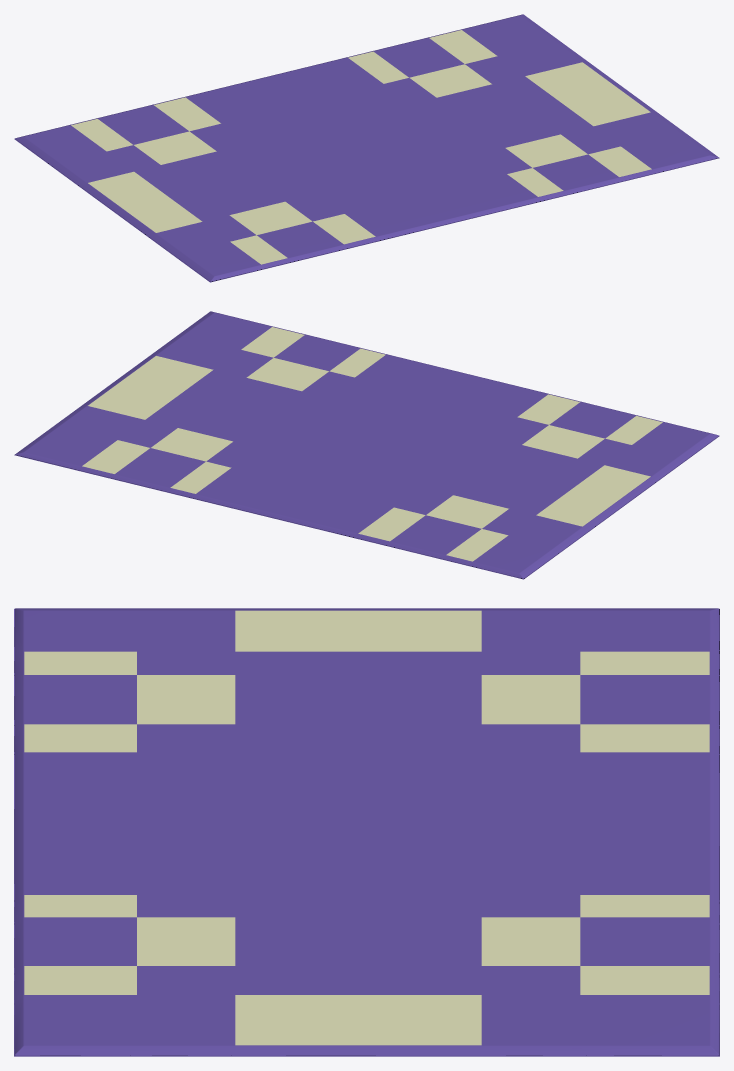
The model's file is ALFOMBRA.fbx.
3 views of the same model, one above another, from view 1: azimuth 30°, elevation 25°; view 2: azimuth 150°, elevation 25°; view 3: azimuth 270°, elevation 25° (orthographic). The views are drawn at different scales.
Visible parts, largest first — view 1: alfombra1; view 2: alfombra1; view 3: alfombra1.
Part boxes in pixels (x1,y1,x2,y2): alfombra1: (14,14,719,282); alfombra1: (14,311,719,579); alfombra1: (14,608,719,1056).
Size of the model in its own units: 309 by 1.53 by 206.
